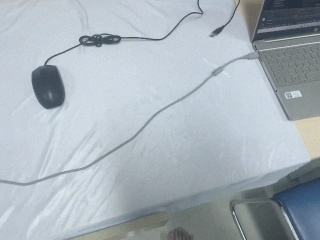mouse: (30, 64, 66, 110)
